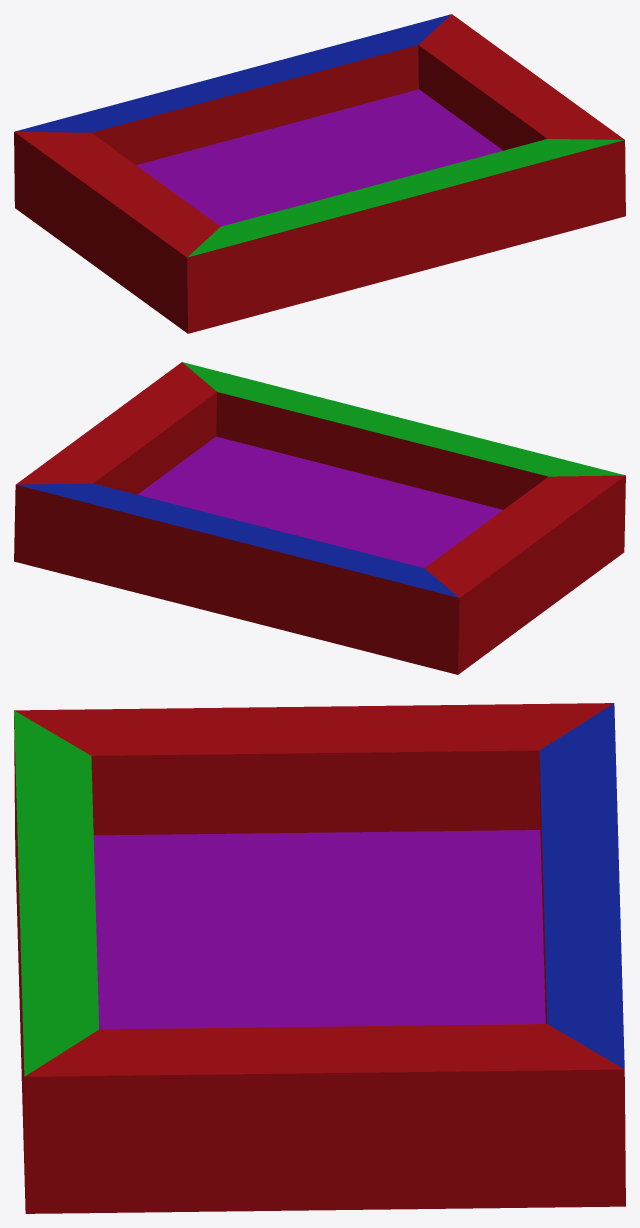
Rendered from board.obj.
The picture shows the model from 3 angles, top to bottom: view 1: azimuth 30°, elevation 25°; view 2: azimuth 150°, elevation 25°; view 3: azimuth 270°, elevation 25°; orthographic projection. The views are drawn at different scales.
Parts seen in each view (by area): view 1: Cube; view 2: Cube; view 3: Cube.
Part boxes in pixels (box(x1,y1,x2,y2)): Cube: box(14, 14, 625, 333); Cube: box(14, 362, 625, 674); Cube: box(14, 703, 625, 1213).
Size of the model in its own units: 6.2 by 1.16 by 4.17.
